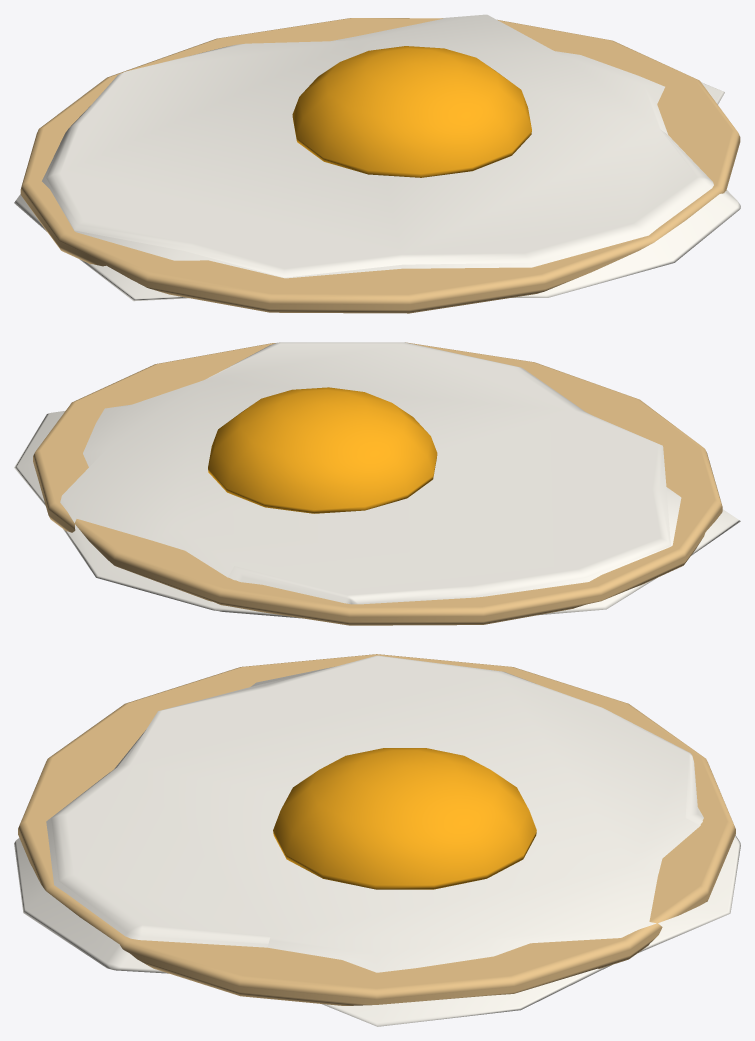
The model's file is Egg_Fried.glb.
The picture shows the model from 3 angles, top to bottom: view 1: azimuth 30°, elevation 25°; view 2: azimuth 150°, elevation 25°; view 3: azimuth 270°, elevation 25°; orthographic projection. The views are drawn at different scales.
Parts seen in each view (by area): view 1: Egg_Fried; view 2: Egg_Fried; view 3: Egg_Fried.
Boxes of the visible parts, x1,y1,x2,y2 form: Egg_Fried: (14, 14, 740, 313); Egg_Fried: (14, 342, 740, 625); Egg_Fried: (14, 654, 740, 1026).
Bounding box in the file's own units: 0.1493 × 0.02 × 0.1296.
